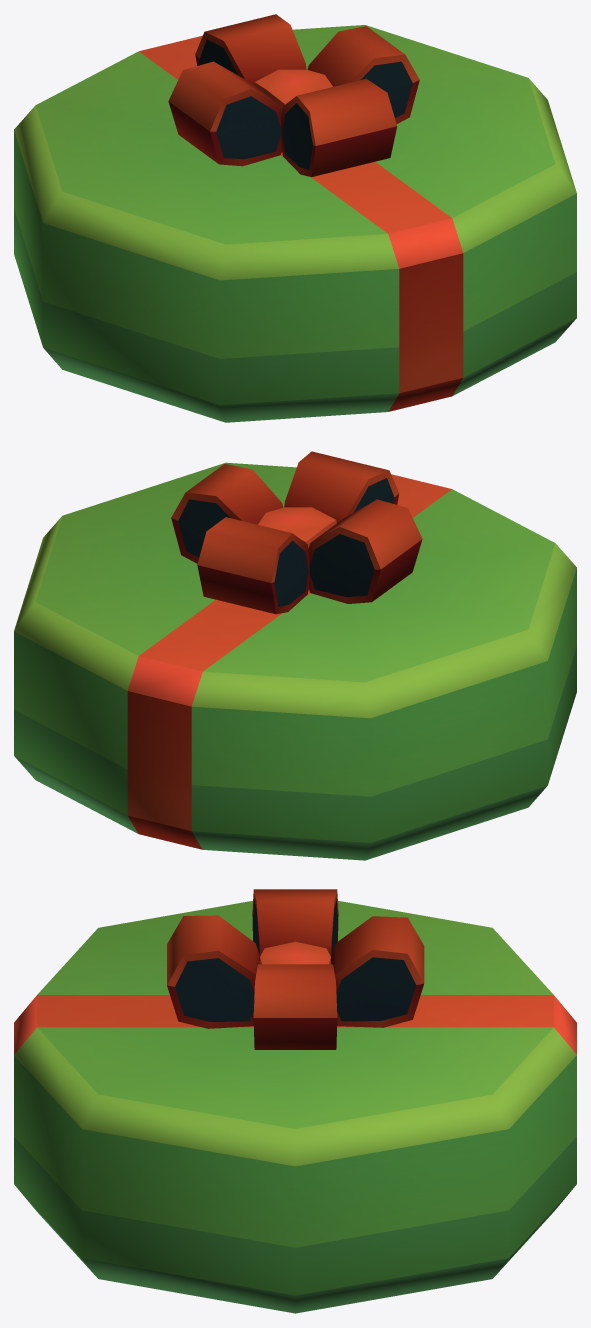
The model's file is presi_round_1_green.fbx.
3 views of the same model, one above another, from view 1: azimuth 30°, elevation 25°; view 2: azimuth 150°, elevation 25°; view 3: azimuth 270°, elevation 25° (orthographic). The views are drawn at different scales.
Parts seen in each view (by area): view 1: presi_round_1_green; view 2: presi_round_1_green; view 3: presi_round_1_green.
Part boxes in pixels (x1,y1,x2,y2): presi_round_1_green: [14, 14, 576, 422]; presi_round_1_green: [14, 451, 576, 860]; presi_round_1_green: [14, 889, 576, 1313].
Bounding box in the file's own units: 162 × 77.63 × 151.
Materials: 1 (1 with a texture image).
